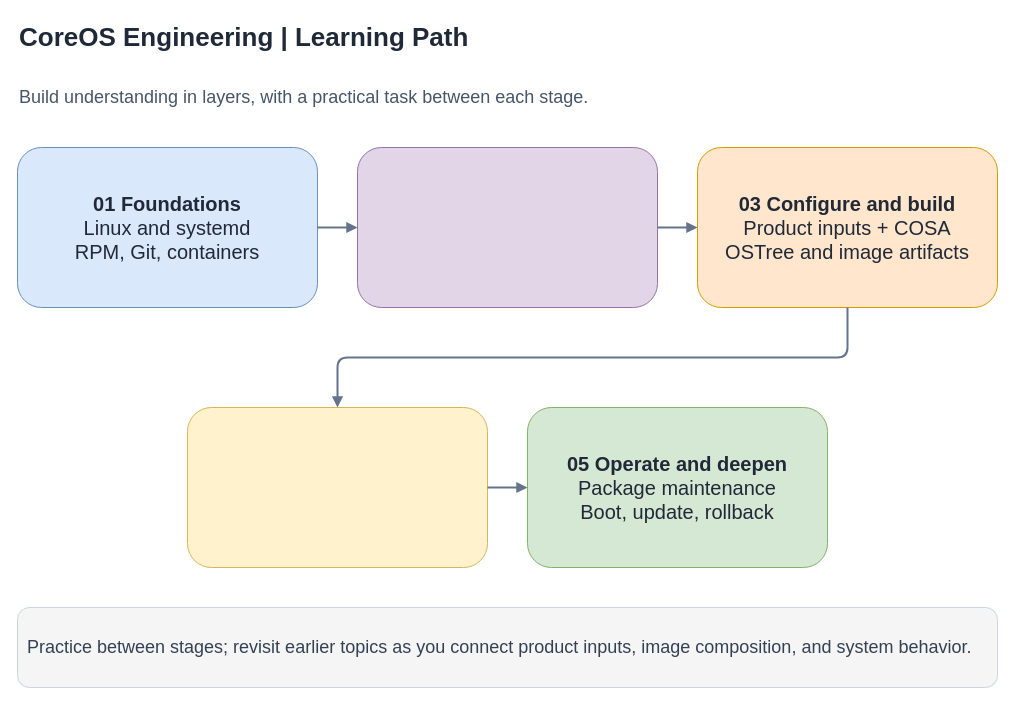
This 1015x705 diagram has some shape labels left out. The centre of each missing label's shape, as x and y in pixels:
"02 CoreOS concepts FCOS and RHCOS OSTree and Ignition" goes at pixel 507 227.
"04 Test and release Kola, TMT, and CI concepts Streams and release artifacts" goes at pixel 337 487.
